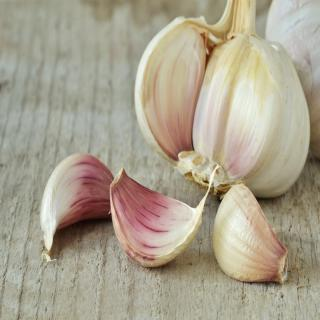Bawang Putih: (102, 158, 225, 288)
